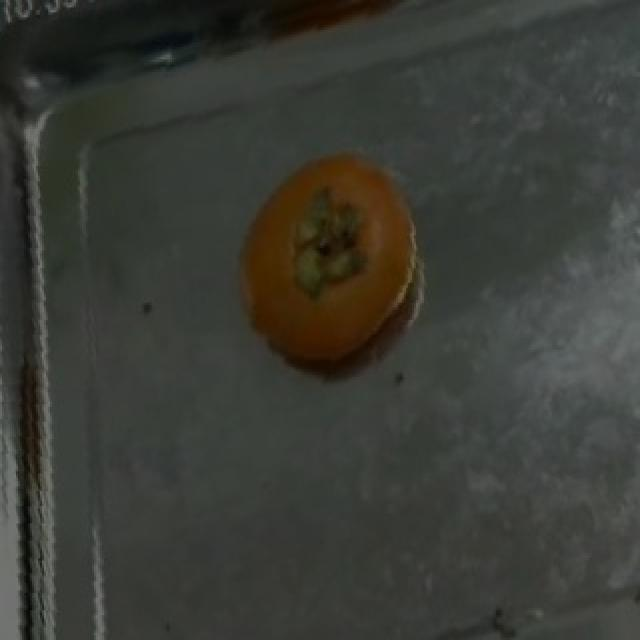Fruit: (212, 142, 446, 384)
